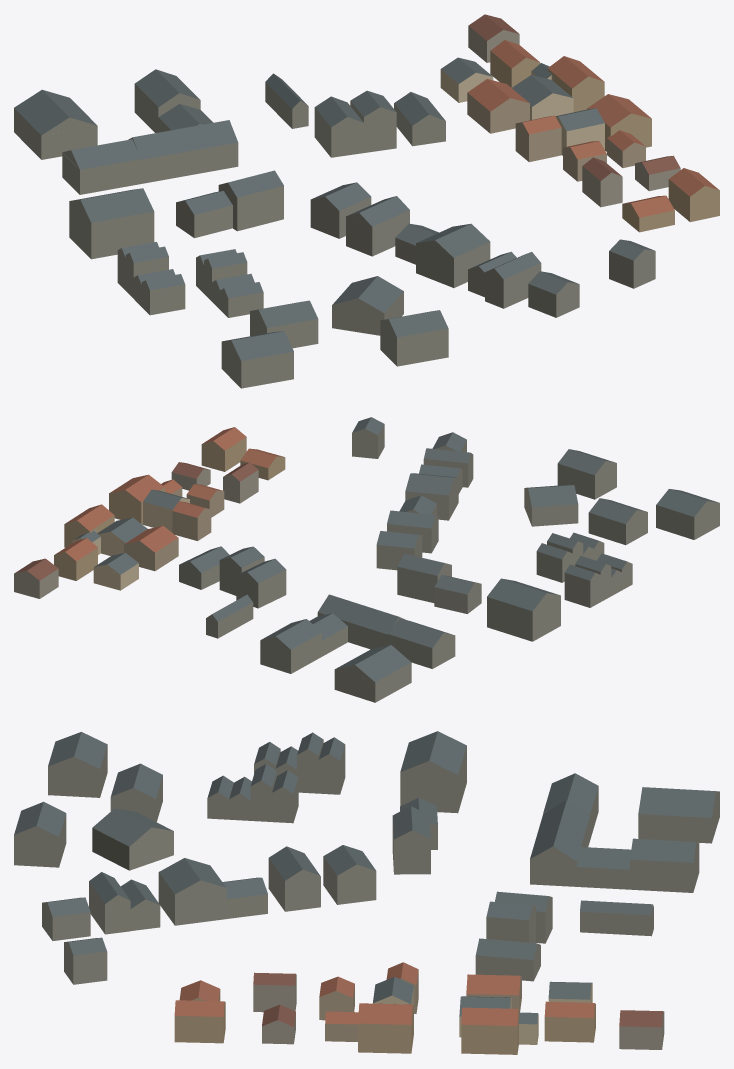
3 views of the same model, one above another, from view 1: azimuth 30°, elevation 25°; view 2: azimuth 150°, elevation 25°; view 3: azimuth 270°, elevation 25° (orthographic). The views are drawn at different scales.
Visible parts, largest first — view 1: C_-4_1; view 2: C_-4_1; view 3: C_-4_1.
Part boxes in pixels (bbox=[...]): C_-4_1: bbox=[14, 14, 719, 388]; C_-4_1: bbox=[14, 417, 719, 702]; C_-4_1: bbox=[14, 731, 719, 1054].
Size of the model in its own units: 187 by 15.51 by 196.
